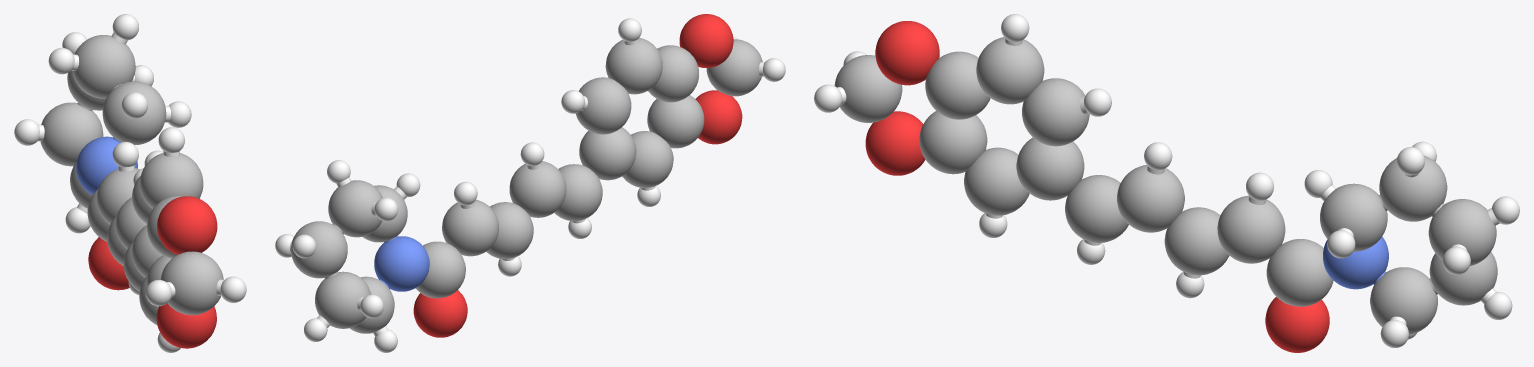
File: capsaicin.glb
The picture shows the model from 3 angles, left to right: view 1: azimuth 30°, elevation 25°; view 2: azimuth 150°, elevation 25°; view 3: azimuth 270°, elevation 25°; orthographic projection. The views are drawn at different scales.
Parts seen in each view (by area): view 1: Carbon_ball_4, Carbon_ball_32, Oxygen_ball_2, Carbon_ball_8, Carbon_ball_2, Carbon_ball_28, Oxygen_ball_4, Nitrogen_ball, Carbon_ball_12, Oxygen_ball, Carbon_ball_16, Carbon_ball_20 (+25 smaller); view 2: Carbon_ball_12, Carbon_ball_16, Nitrogen_ball, Carbon_ball_28, Carbon_ball_26, Carbon_ball_4, Carbon_ball_8, Carbon_ball_20, Carbon_ball_30, Oxygen_ball_2, Carbon_ball_6, Carbon_ball_32 (+21 smaller); view 3: Carbon_ball_12, Carbon_ball_16, Carbon_ball_28, Carbon_ball_26, Carbon_ball, Carbon_ball_10, Carbon_ball_20, Carbon_ball_14, Carbon_ball_30, Carbon_ball_22, Oxygen_ball_2, Carbon_ball_24 (+22 smaller).
Part boxes in pixels (x1,y1,x2,y2): Carbon_ball_4: [72, 35, 135, 98]; Carbon_ball_32: [160, 251, 223, 315]; Oxygen_ball_2: [157, 196, 217, 254]; Carbon_ball_8: [40, 102, 103, 166]; Carbon_ball_2: [102, 81, 166, 144]; Carbon_ball_28: [140, 153, 203, 208]; Oxygen_ball_4: [156, 303, 216, 348]; Nitrogen_ball: [76, 136, 137, 194]; Carbon_ball_12: [96, 168, 139, 224]; Oxygen_ball: [88, 237, 129, 290]; Carbon_ball_16: [115, 197, 146, 249]; Carbon_ball_20: [132, 225, 162, 277]; Carbon_ball_12: [442, 199, 498, 256]; Carbon_ball_16: [509, 161, 566, 217]; Nitrogen_ball: [374, 236, 429, 291]; Carbon_ball_28: [605, 37, 662, 94]; Carbon_ball_26: [575, 77, 631, 134]; Carbon_ball_4: [328, 180, 382, 237]; Carbon_ball_8: [315, 271, 371, 328]; Carbon_ball_20: [579, 127, 636, 180]; Carbon_ball_30: [647, 95, 704, 148]; Oxygen_ball_2: [679, 14, 733, 67]; Carbon_ball_6: [291, 221, 347, 278]; Carbon_ball_32: [706, 39, 762, 96]; Carbon_ball_12: [1217, 195, 1285, 263]; Carbon_ball_16: [1117, 165, 1184, 232]; Carbon_ball_28: [976, 37, 1044, 104]; Carbon_ball_26: [1022, 78, 1089, 146]; Carbon_ball: [1266, 239, 1333, 306]; Carbon_ball_10: [1370, 267, 1437, 334]; Carbon_ball_20: [1016, 137, 1084, 200]; Carbon_ball_14: [1164, 207, 1229, 275]; Carbon_ball_30: [919, 111, 987, 174]; Carbon_ball_22: [925, 51, 990, 119]; Oxygen_ball_2: [875, 21, 939, 85]; Carbon_ball_24: [964, 147, 1029, 215].
Size of the model in its own units: 7.96 by 7.32 by 15.96.
